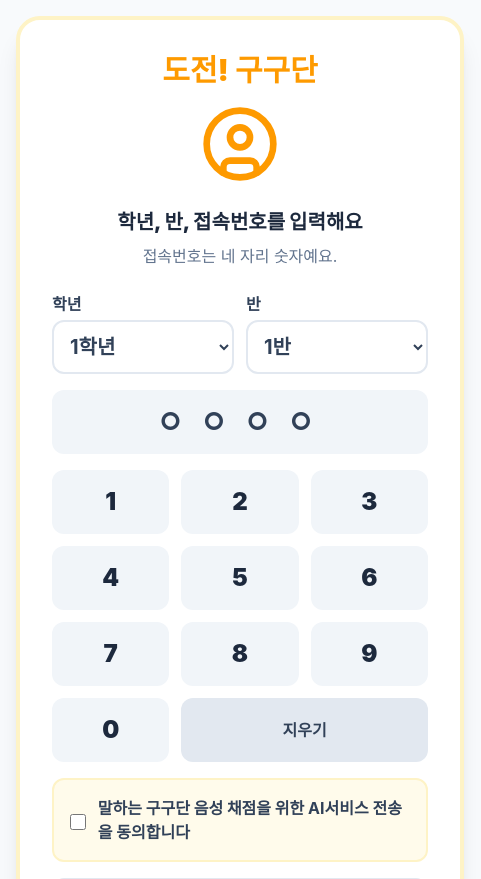
Test: LoginScreen › submits a masked four-digit PIN with the selected grade and class
The image size is (481, 879).
Expected: the text "도전! 구구단" is shown, [162,52,318,88]
Select "3학년" in the dropdown labelled "학년" at (143, 347), box [52,320,234,374]
Select "2반" in the dropdown labelled "반" at (337, 347), box [246,320,428,374]
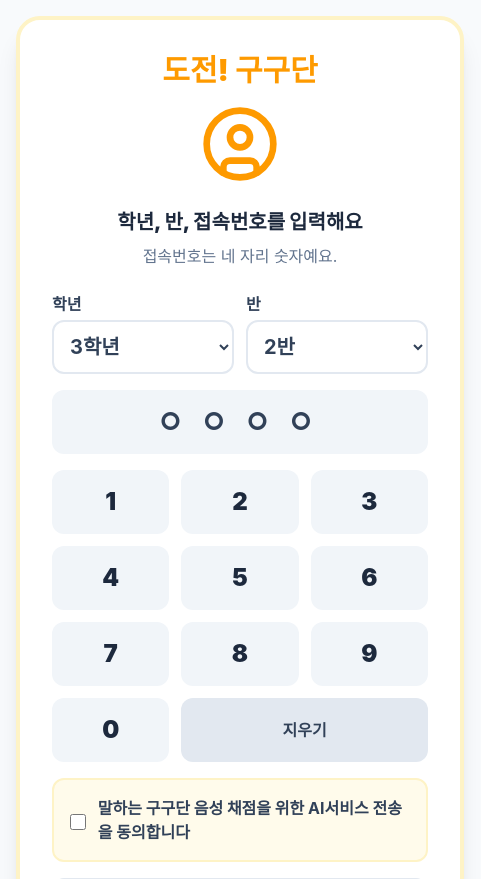
Click the checkbox labelled "말하는 구구단 음성 채점을 위한 AI서비스 전송을 동의합니다" at (78, 822), box [70,812,86,832]
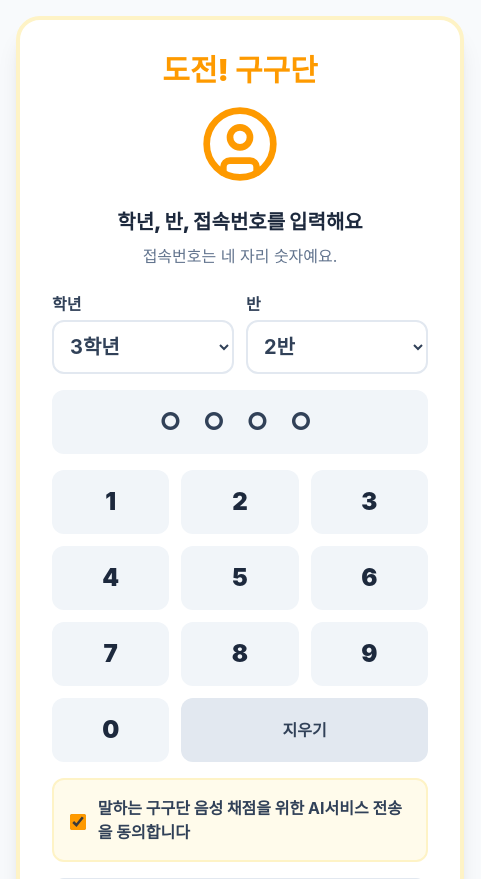
Click the button "1" at (111, 502), box [52,470,169,534]
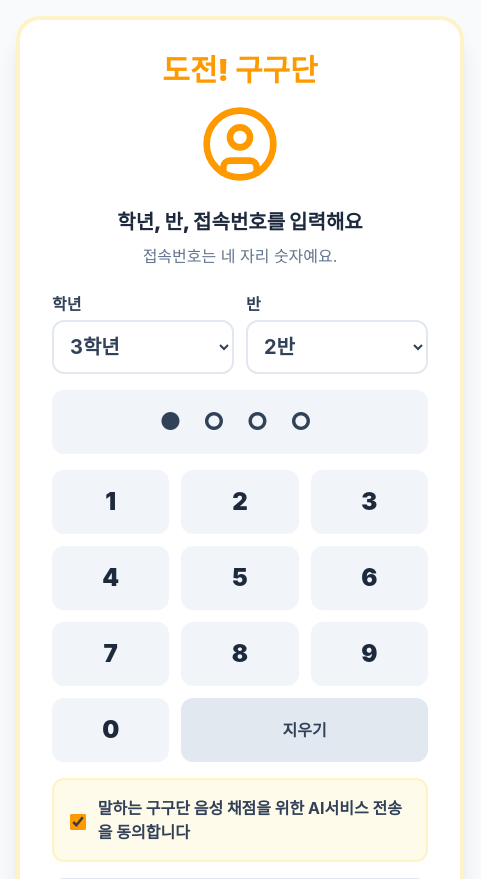
Click the button "2" at (240, 502), box [181,470,299,534]
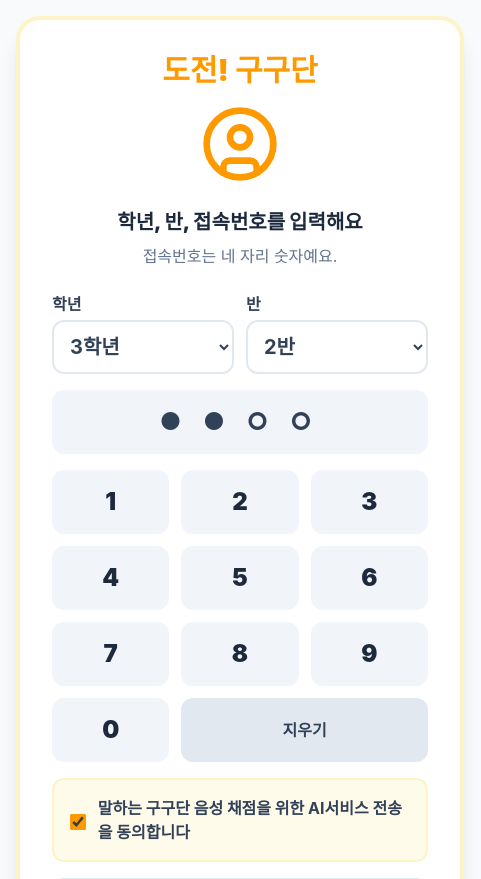
Click the button "3" at (369, 502), box [311,470,428,534]
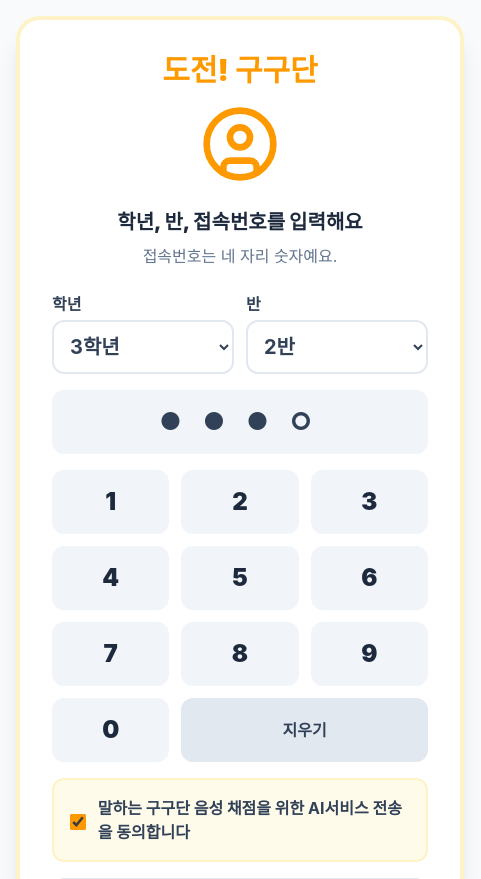
Click the button "4" at (111, 578), box [52,546,169,610]
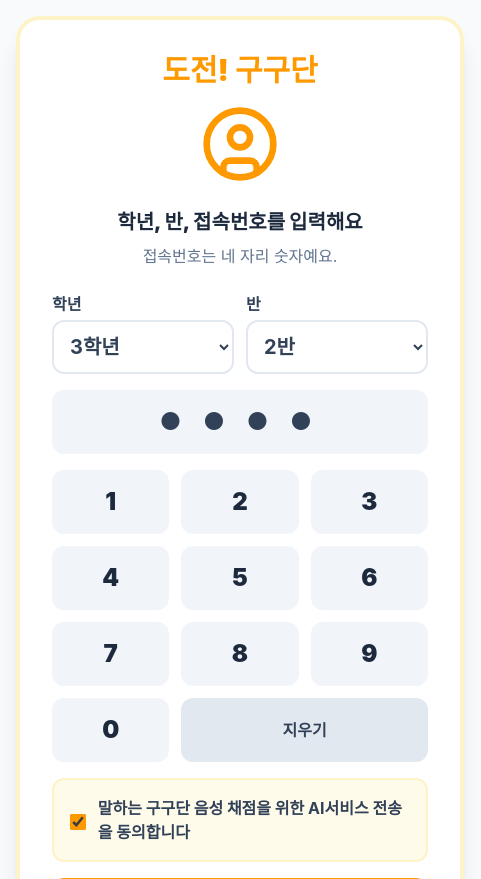
Result: the text "● ● ● ●" is shown at [52,390,428,454]
